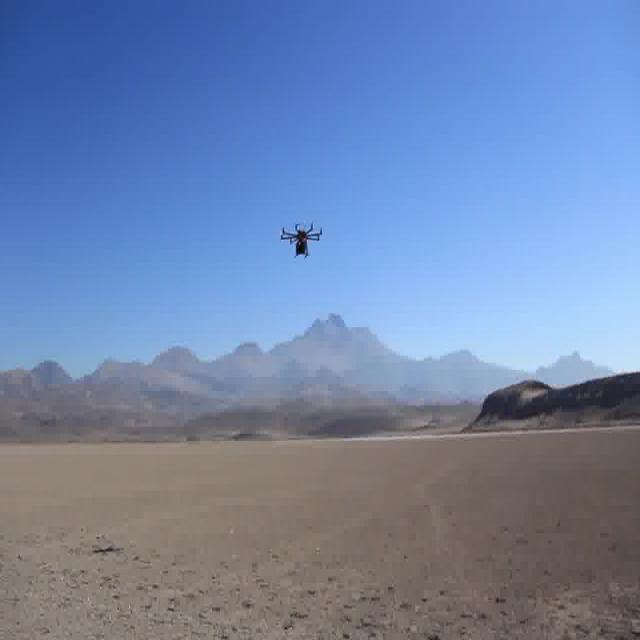drone: (275, 207, 327, 264)
